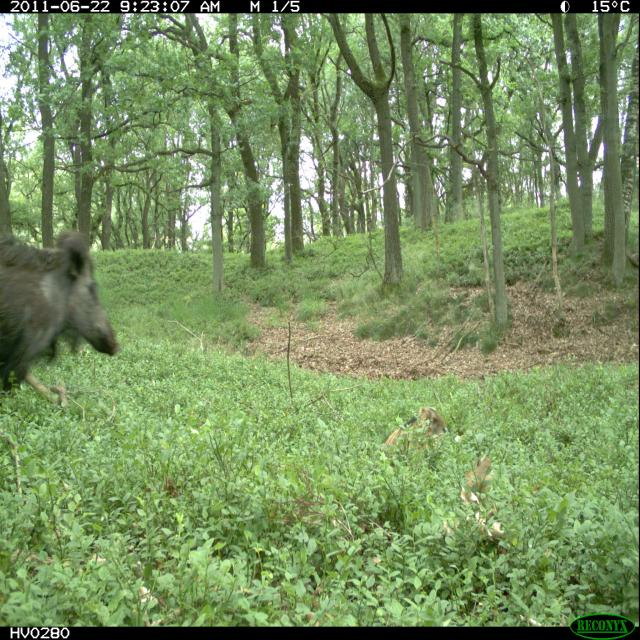boar: (0, 225, 140, 413)
